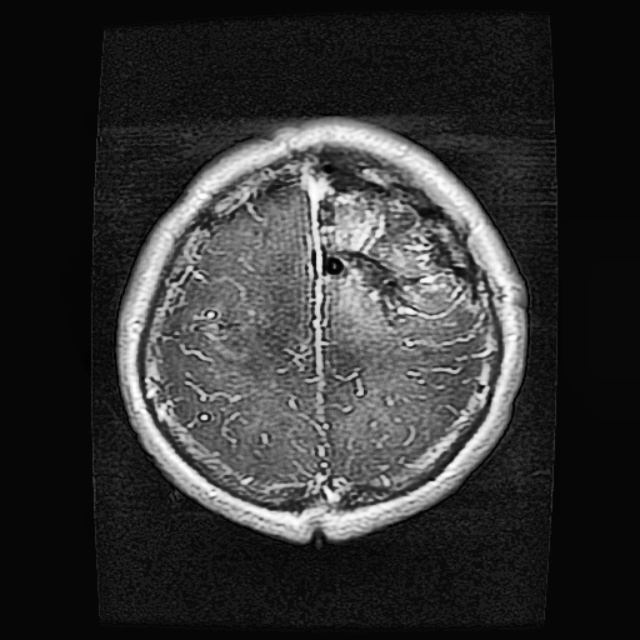Pituitary: (315, 145, 474, 313)
